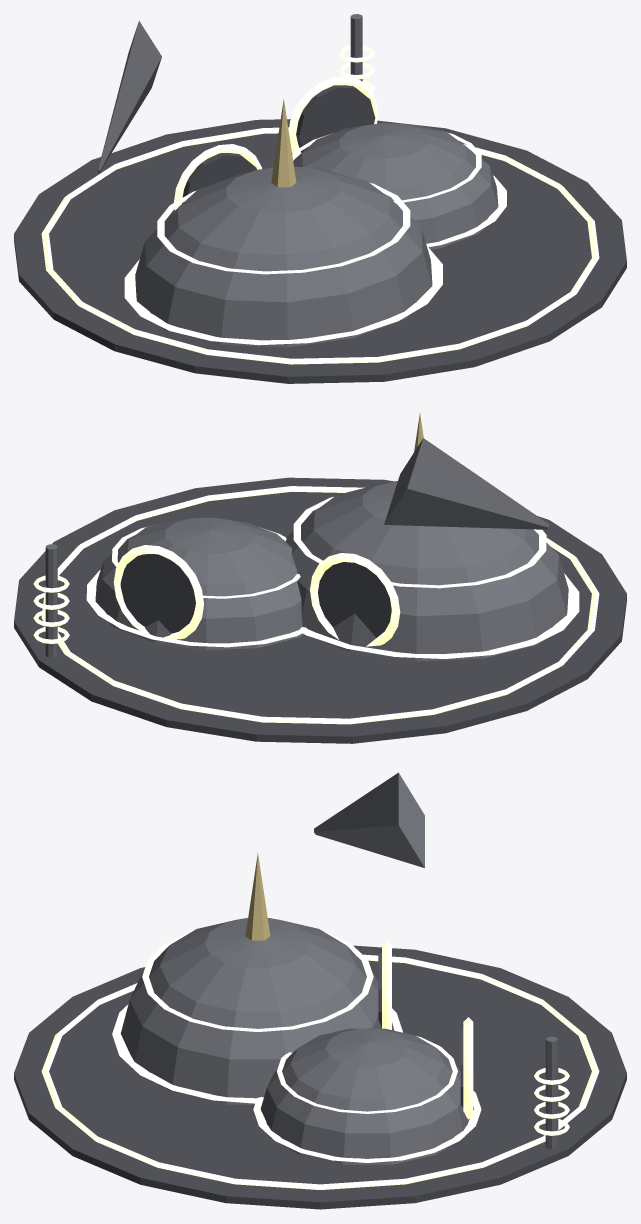
The model's file is zone_low_4_t4.glb.
3 views of the same model, one above another, from view 1: azimuth 30°, elevation 25°; view 2: azimuth 150°, elevation 25°; view 3: azimuth 270°, elevation 25° (orthographic).
Visible parts, largest first — view 1: zone_low_4_t4, detail; view 2: zone_low_4_t4, detail; view 3: zone_low_4_t4, detail.
Boxes of the visible parts, box(x1,y1,x2,y2) form: zone_low_4_t4: box(14, 21, 626, 383); detail: box(41, 14, 599, 364); zone_low_4_t4: box(14, 413, 626, 743); detail: box(33, 486, 599, 724); zone_low_4_t4: box(14, 772, 626, 1209); detail: box(41, 931, 599, 1189).
Bounding box in the file's own units: 19.6 × 9.31 × 19.6.
